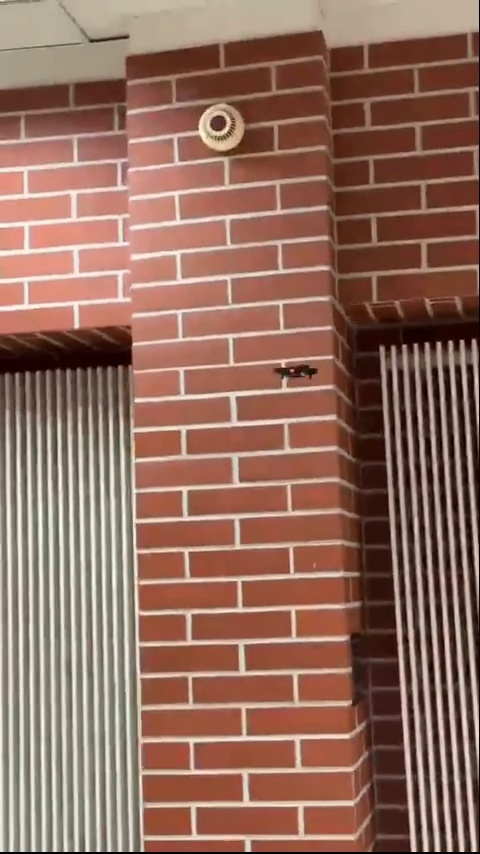drone: (275, 364, 325, 382)
